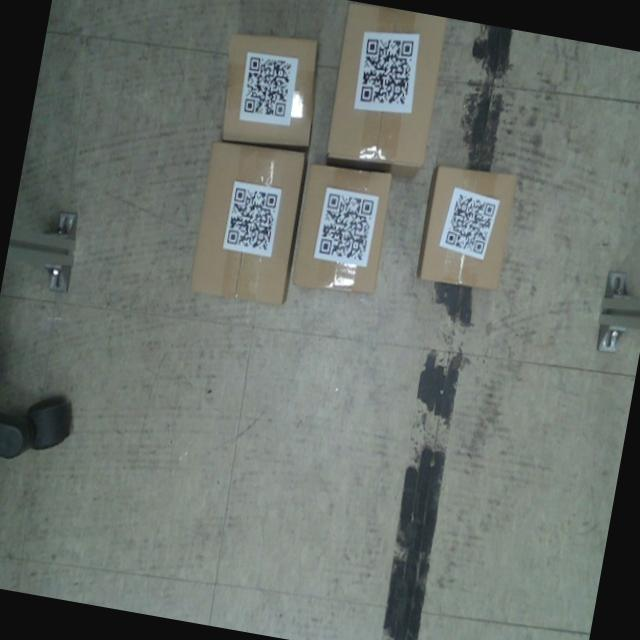box: (317, 0, 451, 179), (184, 134, 310, 308), (209, 22, 330, 158), (289, 155, 396, 300), (413, 158, 521, 294)
